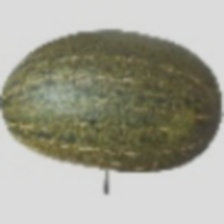honeydew: (32, 0, 215, 190)
